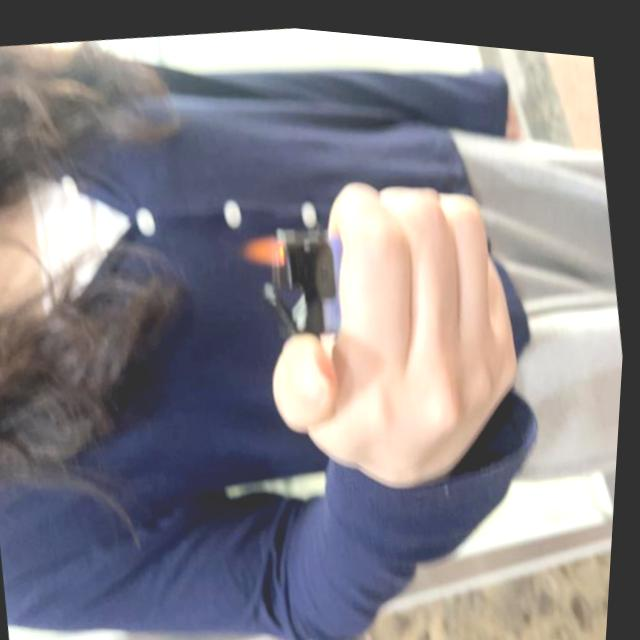Fire: (240, 224, 290, 267)
